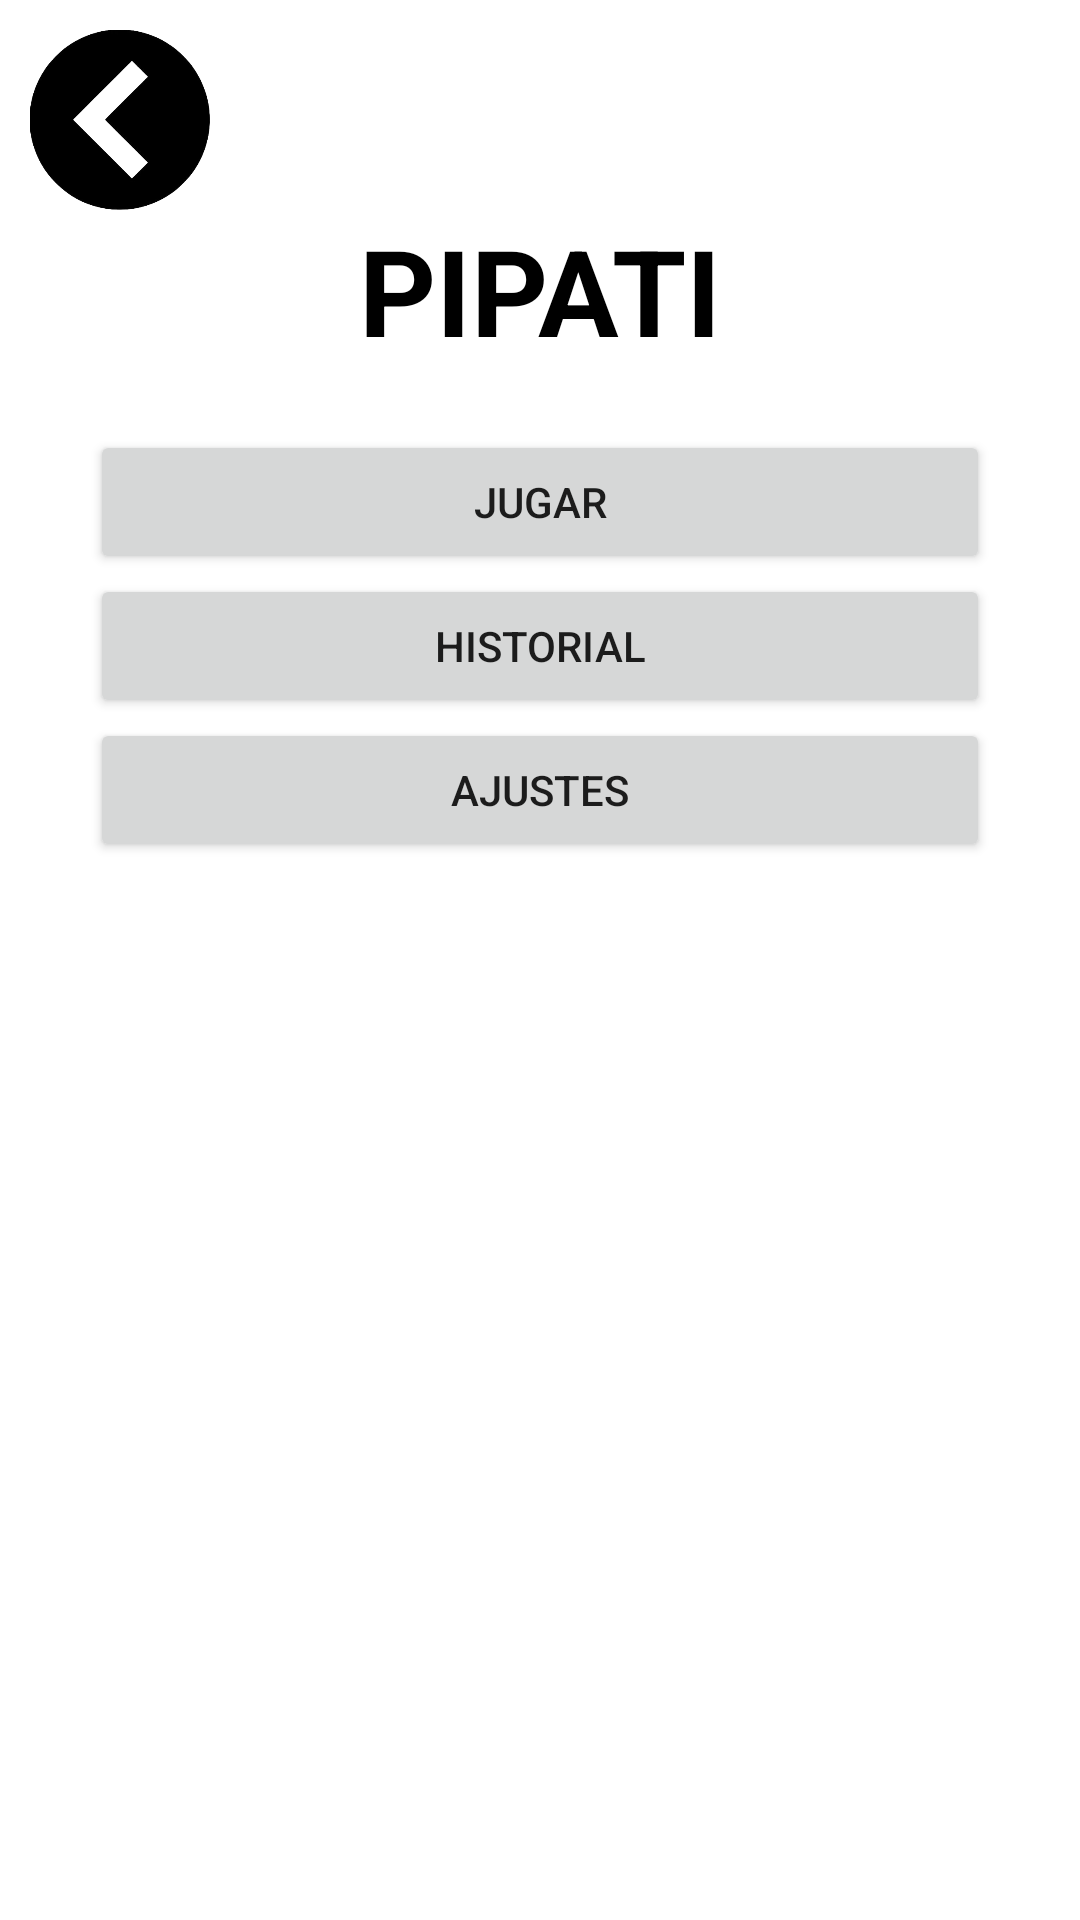

Where icons sit on this 1080*1920 app screen, as (x1, y1, x2, y2):
flecha: (30, 30, 210, 210)
